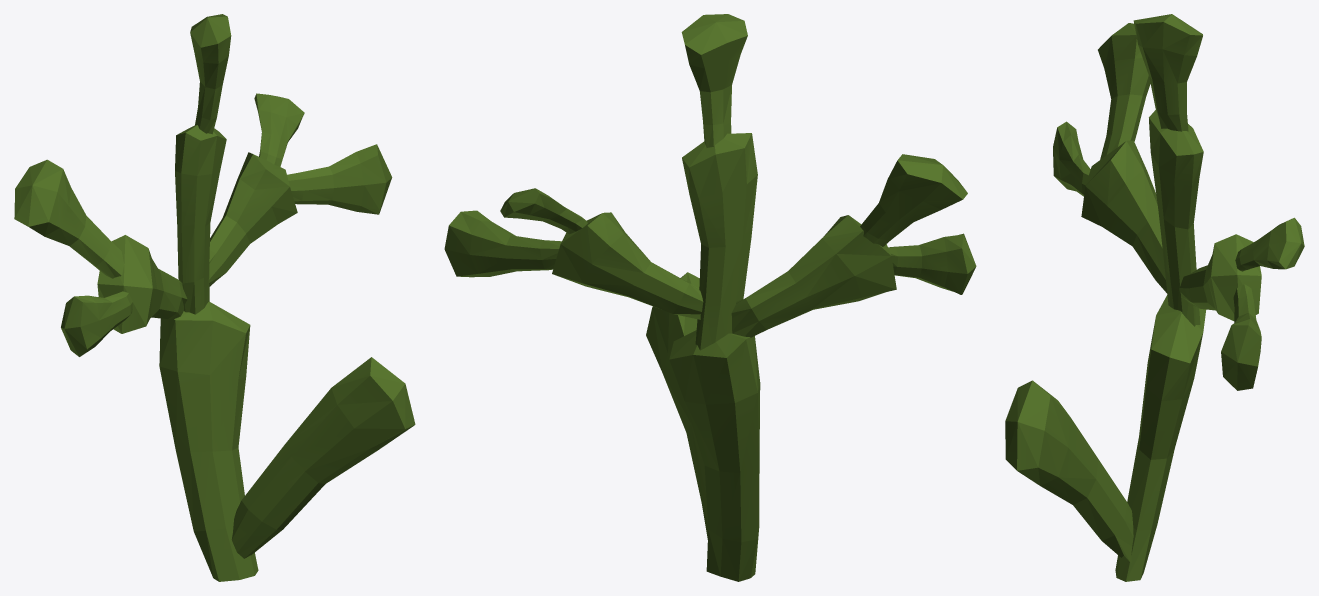
File: Desert_plant_006.glb
3 views of the same model, side by side, from view 1: azimuth 30°, elevation 25°; view 2: azimuth 150°, elevation 25°; view 3: azimuth 270°, elevation 25° (orthographic). The views are drawn at different scales.
Parts seen in each view (by area): view 1: Desert_plant_006; view 2: Desert_plant_006; view 3: Desert_plant_006.
Part boxes in pixels (x1,y1,x2,y2): Desert_plant_006: (14, 14, 415, 581); Desert_plant_006: (444, 14, 976, 581); Desert_plant_006: (1005, 14, 1304, 581).
Size of the model in its own units: 1.04 by 1.25 by 0.612.
Materials: 1 (1 with a texture image).
